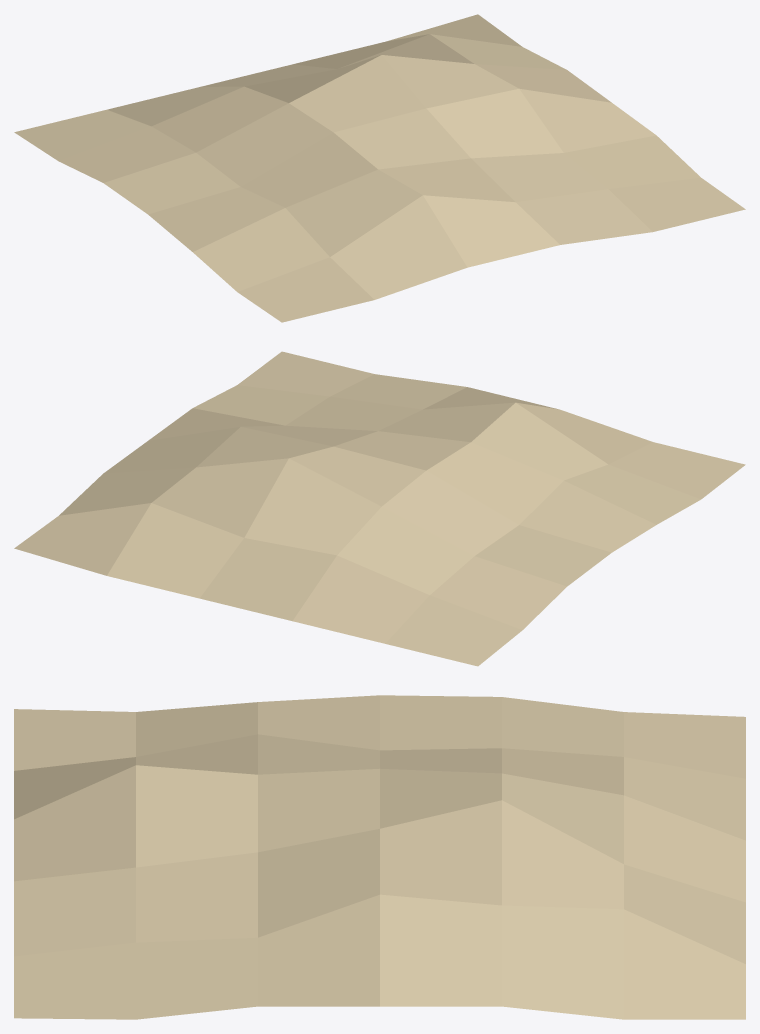
The model's file is dirt2.fbx.
3 views of the same model, one above another, from view 1: azimuth 30°, elevation 25°; view 2: azimuth 150°, elevation 25°; view 3: azimuth 270°, elevation 25° (orthographic). The views are drawn at different scales.
Visible parts, largest first — view 1: Plane; view 2: Plane; view 3: Plane.
Part boxes in pixels (x1=…): Plane: x1=14, y1=14, x2=745, y2=322; Plane: x1=14, y1=351, x2=745, y2=666; Plane: x1=14, y1=695, x2=745, y2=1019.
Bounding box in the file's own units: 4 × 0.6167 × 4.
